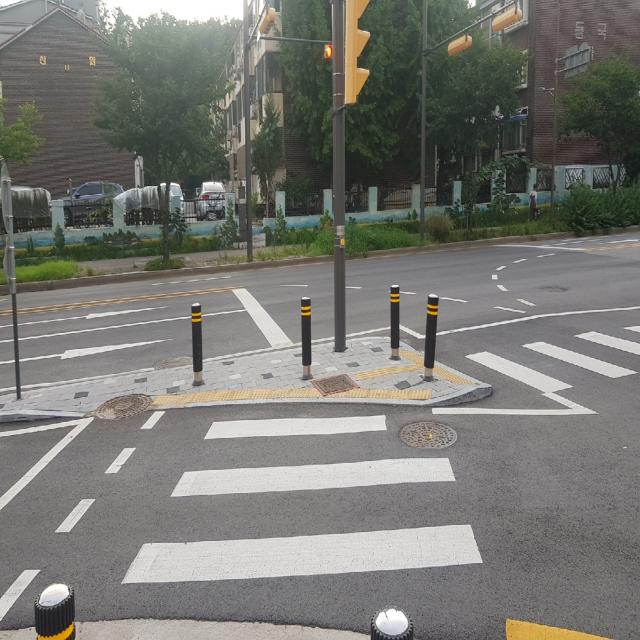횡단보도: (120, 411, 486, 587), (460, 308, 640, 397)
